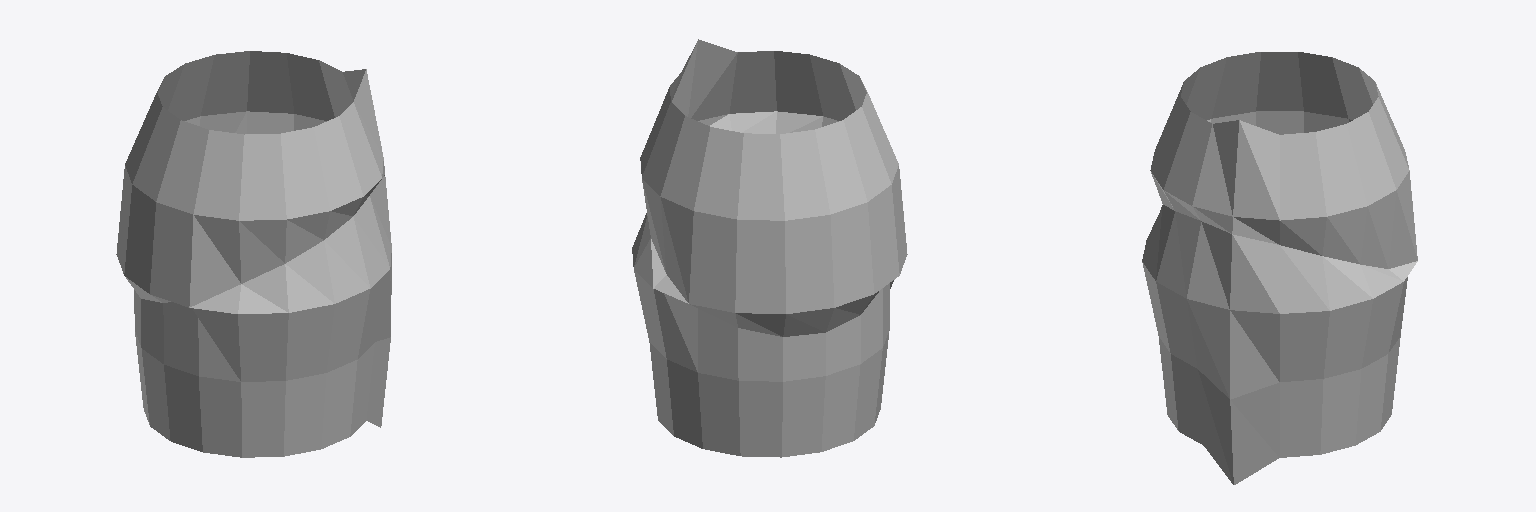
Rendered from body02.obj.
3 views of the same model, side by side, from view 1: azimuth 30°, elevation 25°; view 2: azimuth 150°, elevation 25°; view 3: azimuth 270°, elevation 25° (orthographic).
Parts seen in each view (by area): view 1: CUPIC_ROCKETSHIP.050; view 2: CUPIC_ROCKETSHIP.050; view 3: CUPIC_ROCKETSHIP.050.
Part boxes in pixels (left/top/right/bottom): CUPIC_ROCKETSHIP.050: left=116, top=51, right=391, bottom=457; CUPIC_ROCKETSHIP.050: left=632, top=39, right=907, bottom=457; CUPIC_ROCKETSHIP.050: left=1142, top=52, right=1417, bottom=484.
Size of the model in its own units: 10.6 by 15.31 by 10.64.